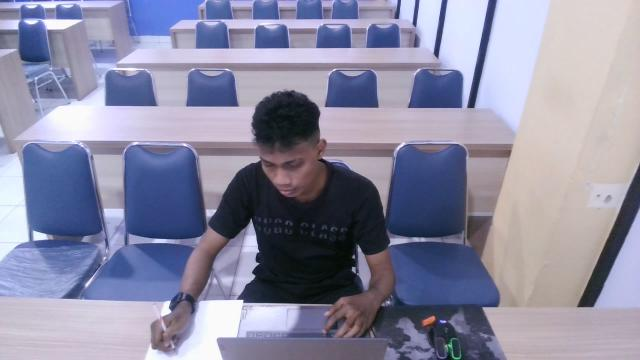Normal_Writing: (144, 79, 399, 360)
